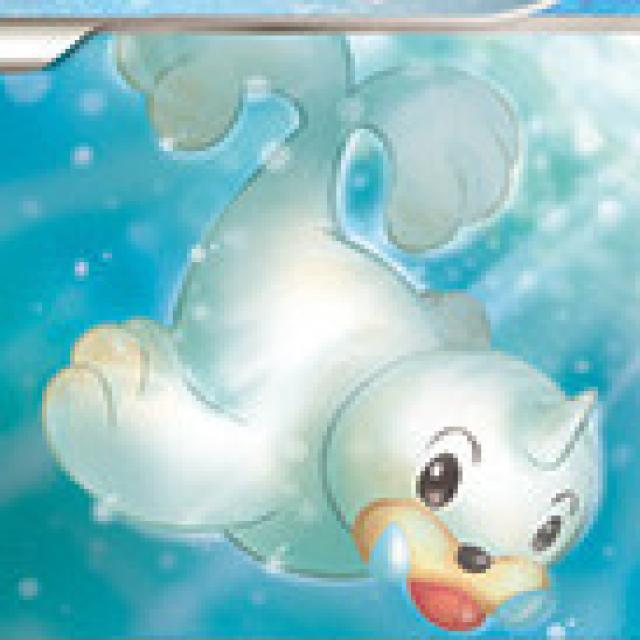Seel: (32, 21, 621, 640)
